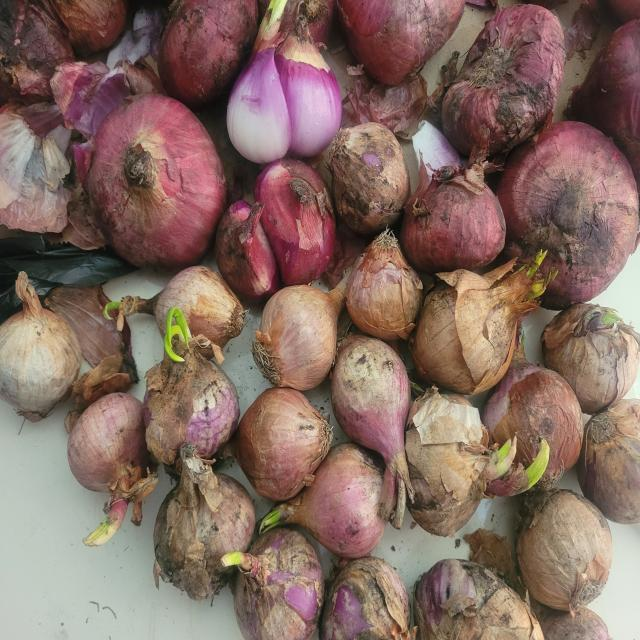mechanical_damage: (213, 159, 327, 307), (227, 23, 346, 159)
sprouting: (403, 390, 559, 536)
